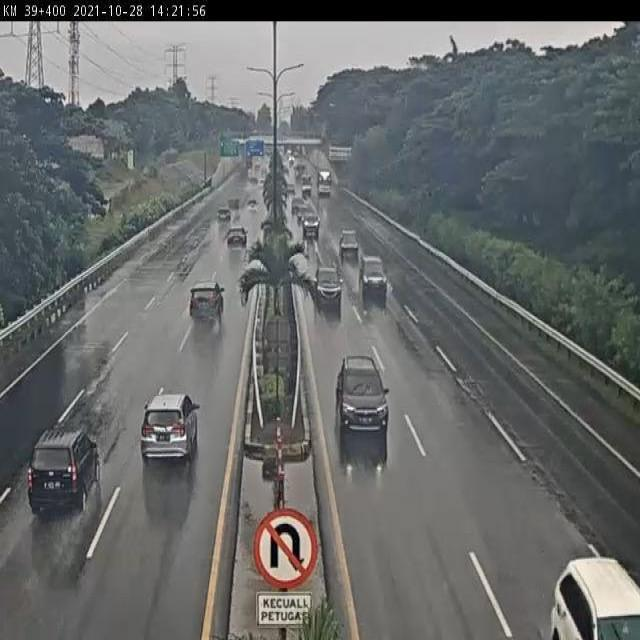car: (26, 429, 100, 519), (187, 280, 227, 324), (358, 255, 390, 296), (314, 265, 345, 304)
